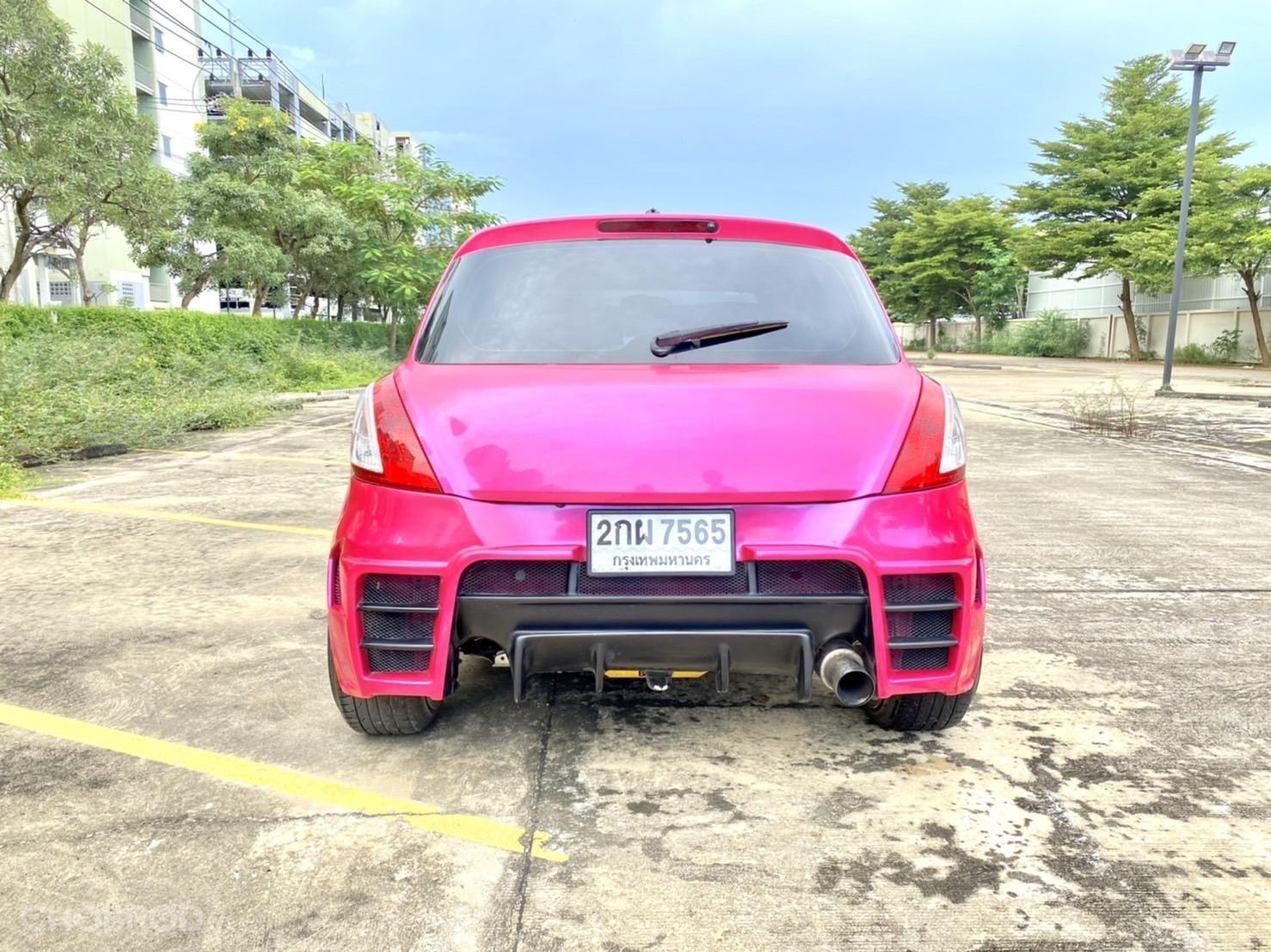license-plate: (584, 506, 740, 577)
